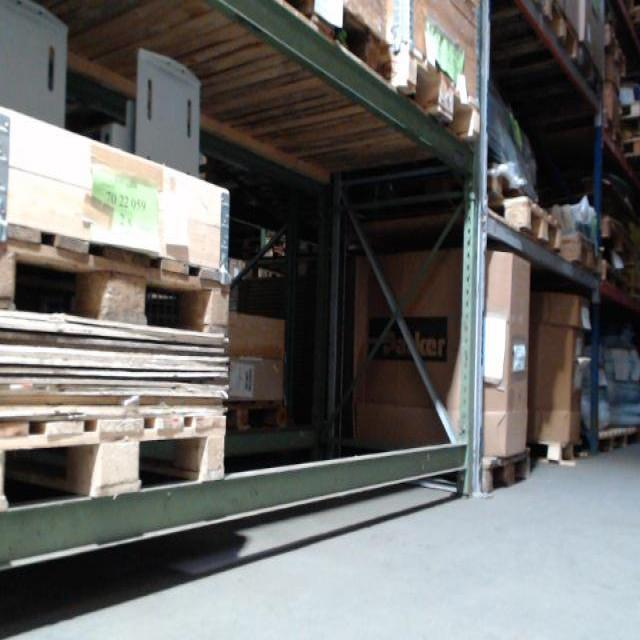pallet: (0, 218, 230, 337), (0, 414, 227, 519), (381, 43, 481, 146), (290, 0, 392, 79), (489, 194, 563, 255), (531, 0, 580, 63), (223, 394, 286, 436), (479, 446, 530, 496), (563, 229, 602, 279), (574, 40, 602, 97), (532, 436, 581, 464), (599, 258, 624, 292)
